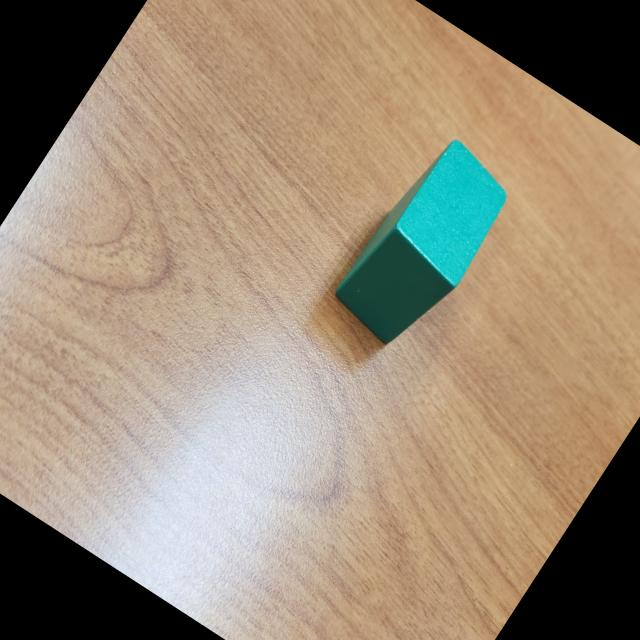green: (324, 127, 524, 360)
